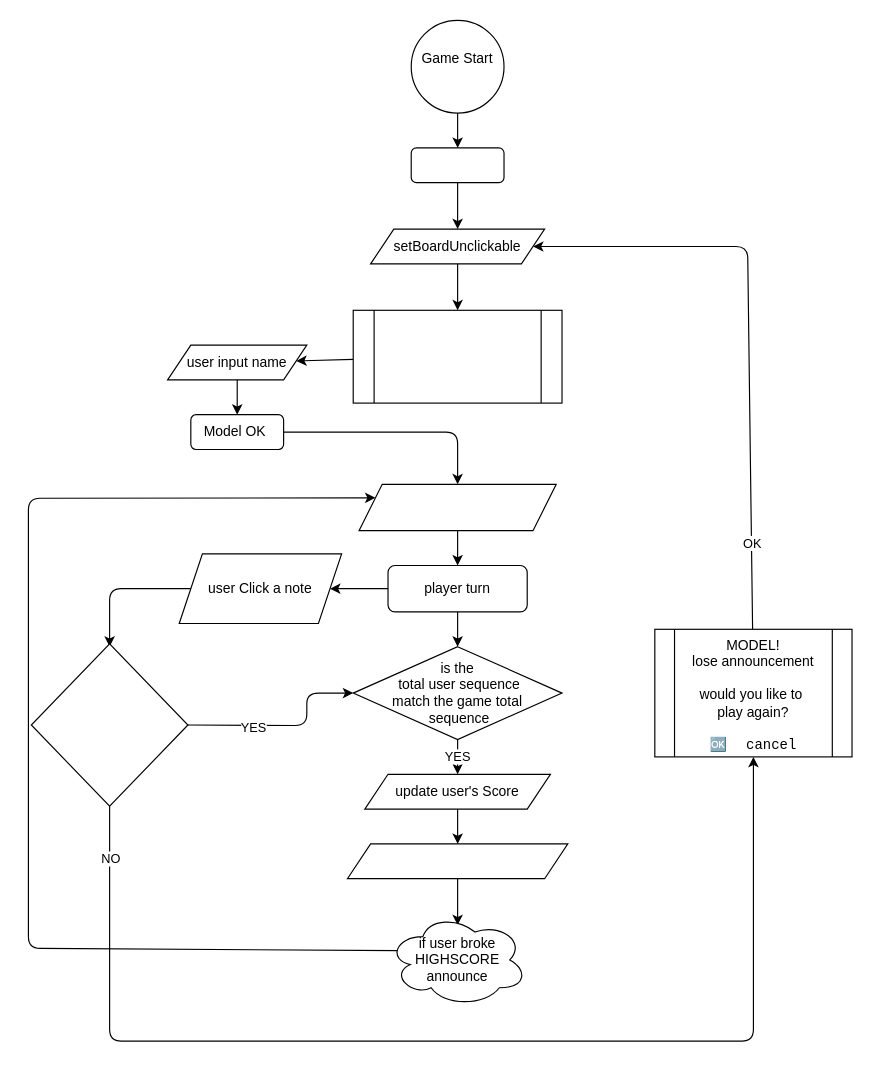
This 872x1071 diagram has some shape labels left out. Each missing label, with the box of its shape:
add another game sequence: (346, 843, 568, 879)
does the note input match so far the sequence saved on game engine?: (30, 643, 188, 806)
gameEngine play series of notes: (358, 483, 556, 531)
MODEL! new game count down with instructions 🆗 (added after countdown finish): (352, 309, 562, 403)
Start button Pressed: (410, 147, 504, 183)
